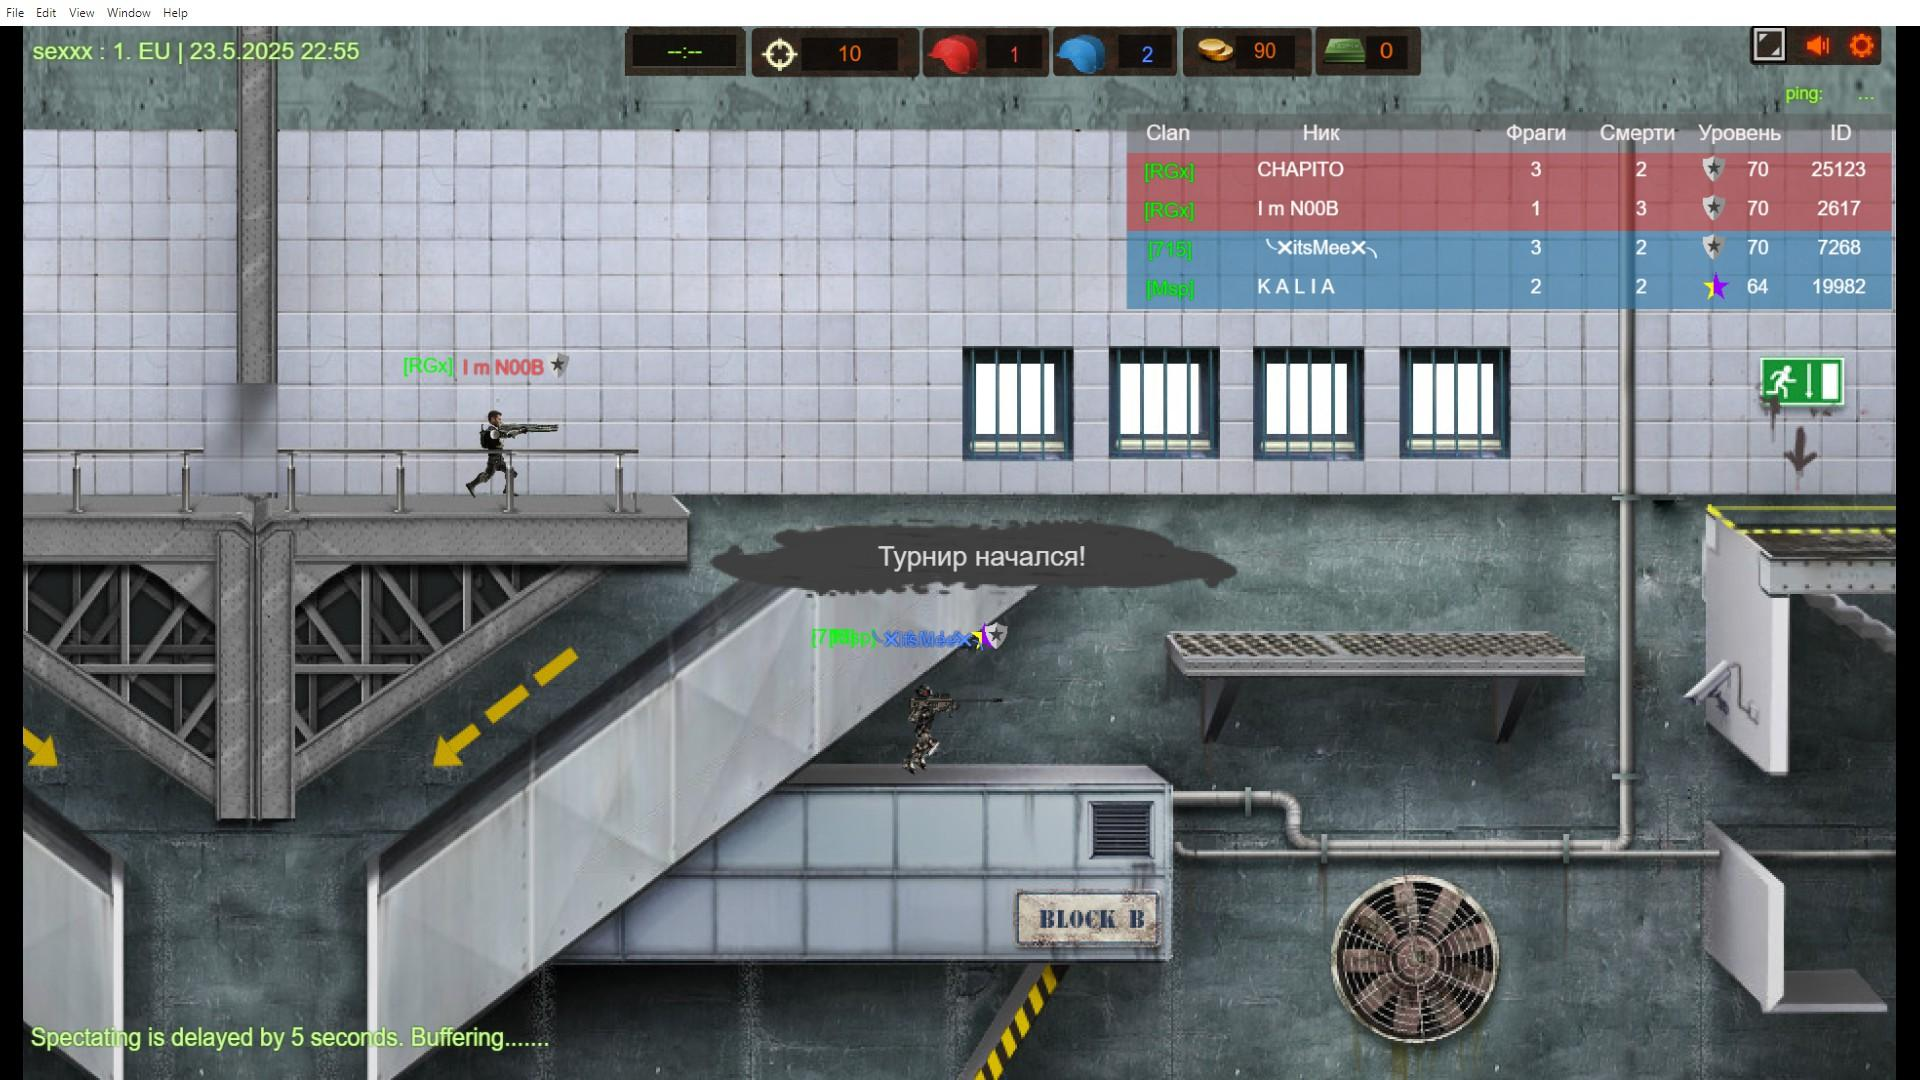enemy: (454, 407, 535, 501), (894, 674, 961, 779)
